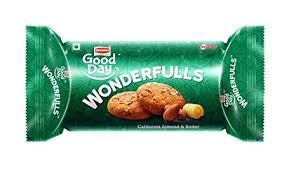gooday-small: (23, 25, 260, 138)
